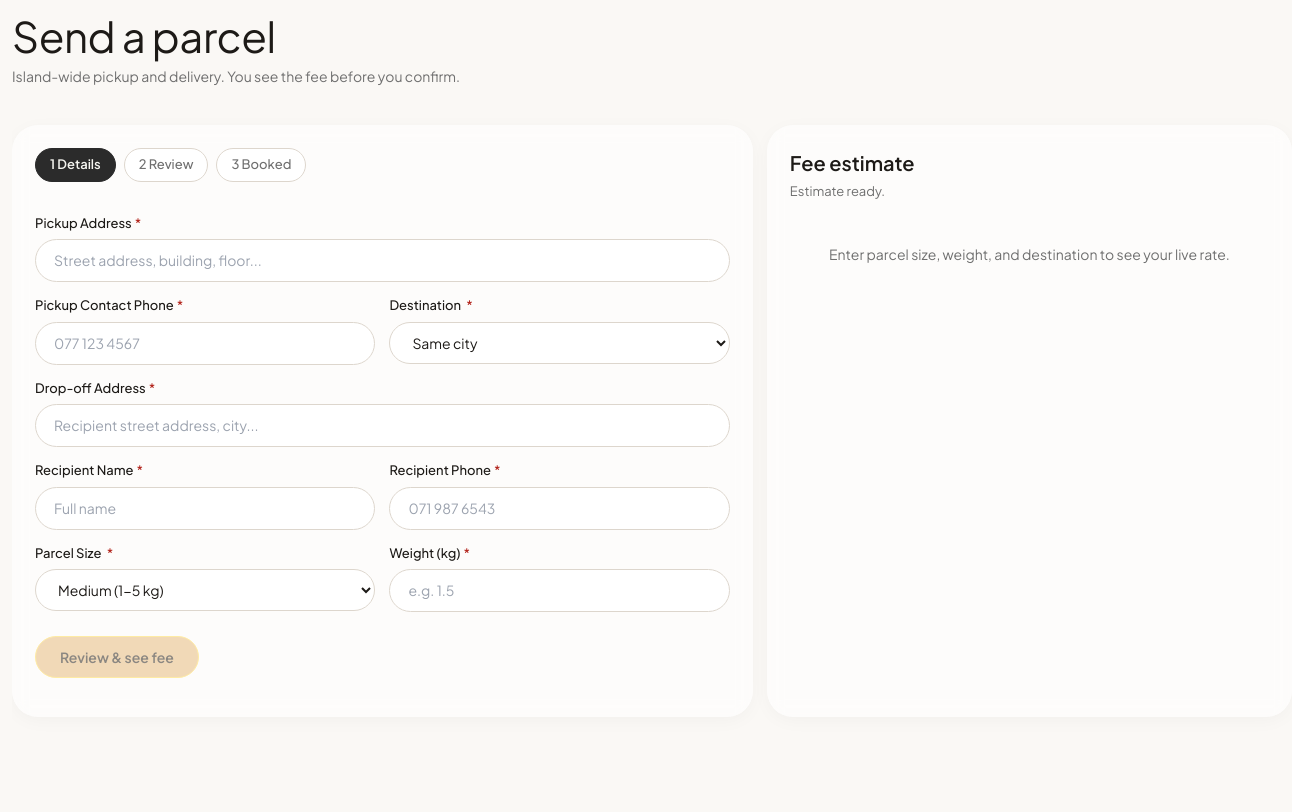
it: SendParcelPage Component › handles estimate failure and enables retry
Type "123 Galle Road, Colombo 03" into the field labelled "Pickup Address*" at (382, 261), box [35,239,730,282]
Type "0771234567" into the field labelled "Pickup Contact Phone*" at (205, 343), box [35,322,375,365]
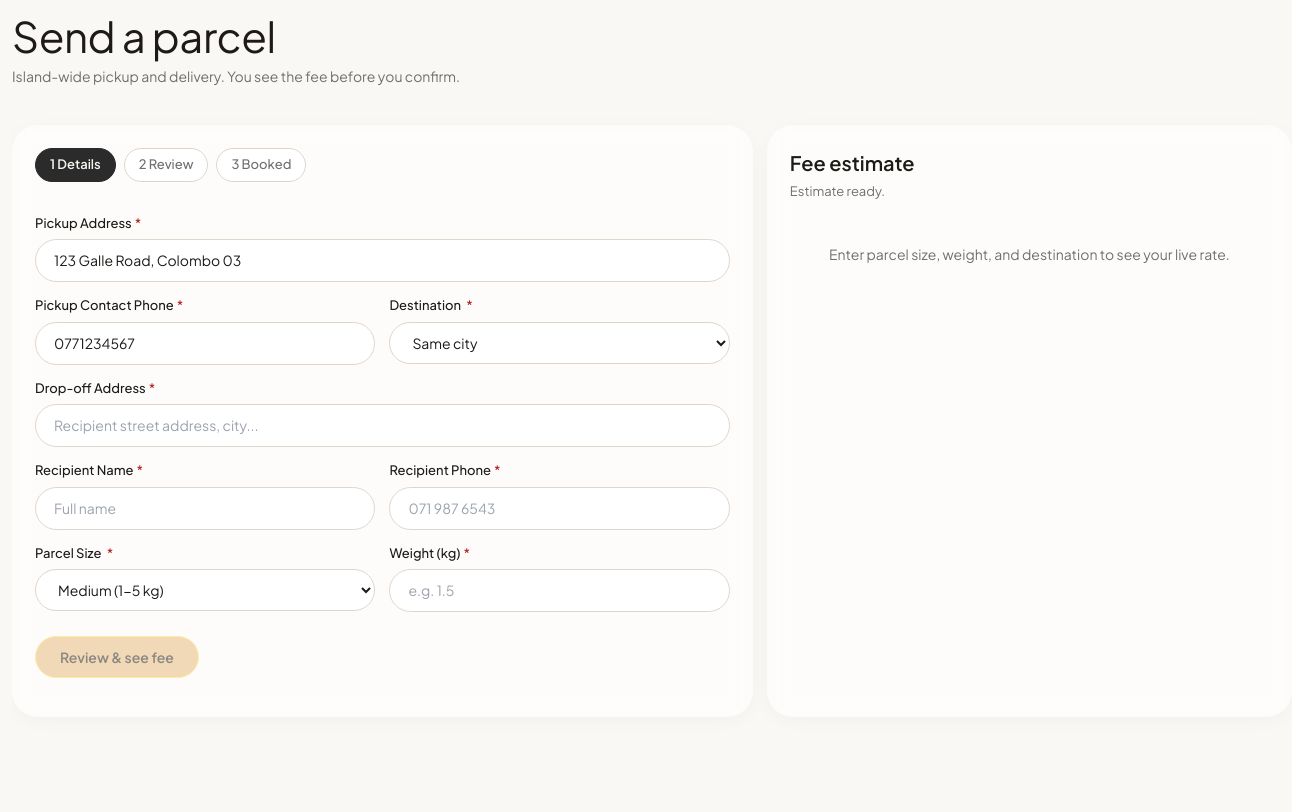
Type "45 Peradeniya Road, Kandy" into the field labelled "Drop-off Address*" at (382, 426), box [35,404,730,447]
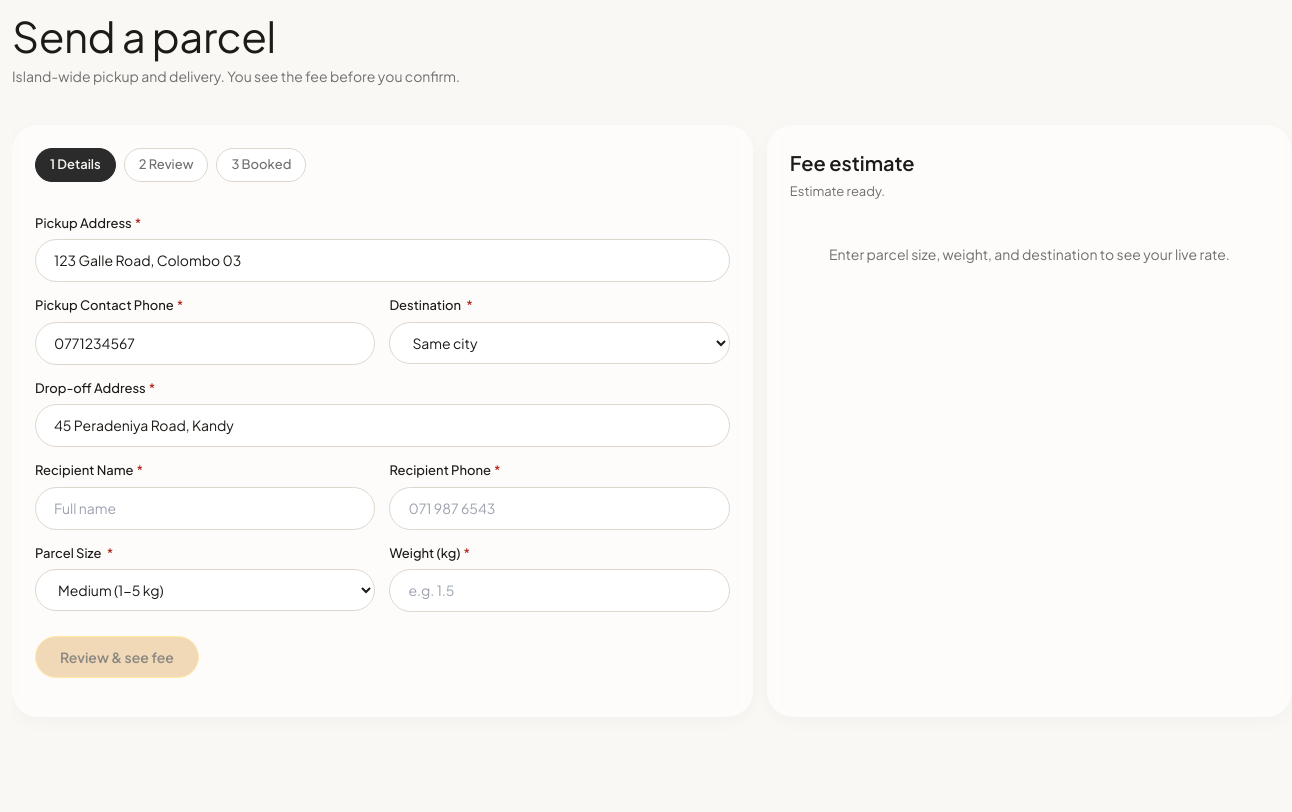
Type "Kasun Perera" into the field labelled "Recipient Name*" at (205, 508), box [35,487,375,530]
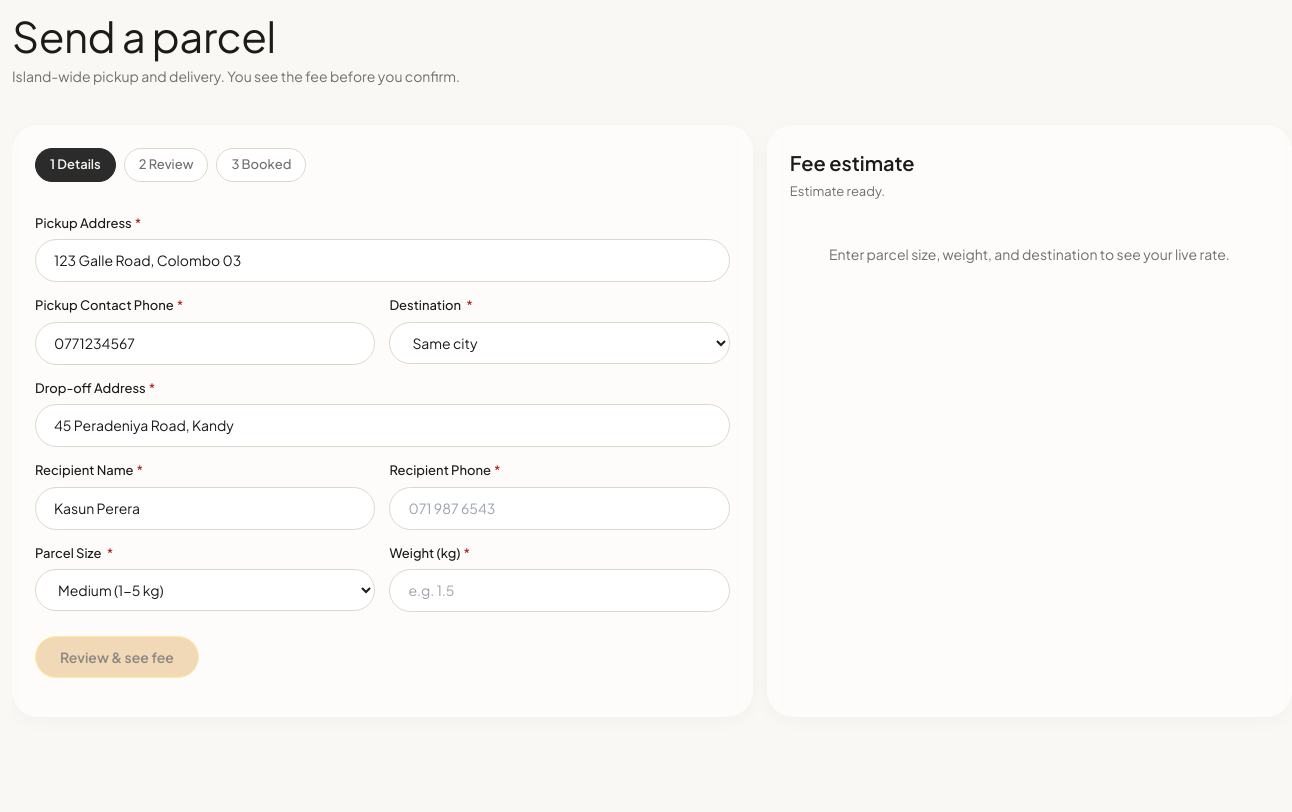
Type "0719876543" into the field labelled "Recipient Phone*" at (560, 508), box [389,487,730,530]
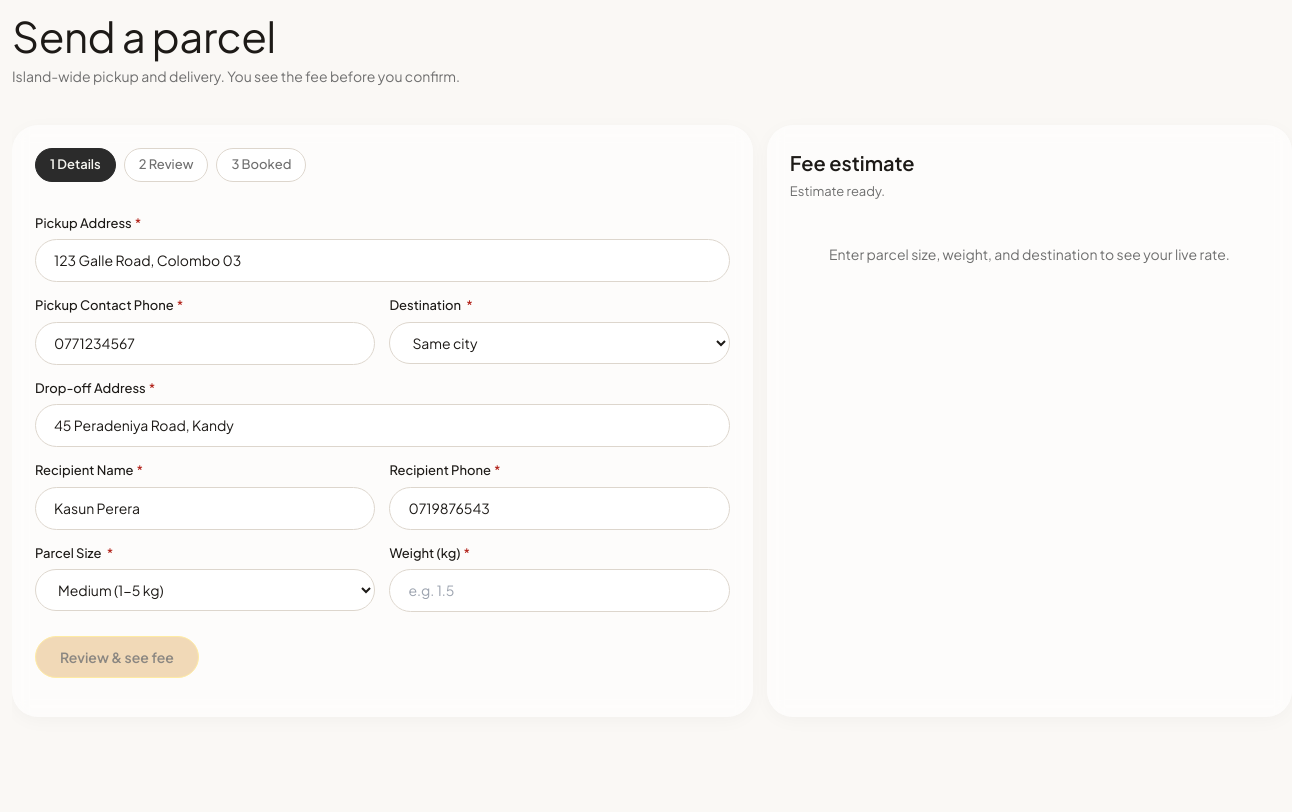
Type "2" into the number field labelled "Weight (kg)*" at (560, 591), box [389,569,730,612]
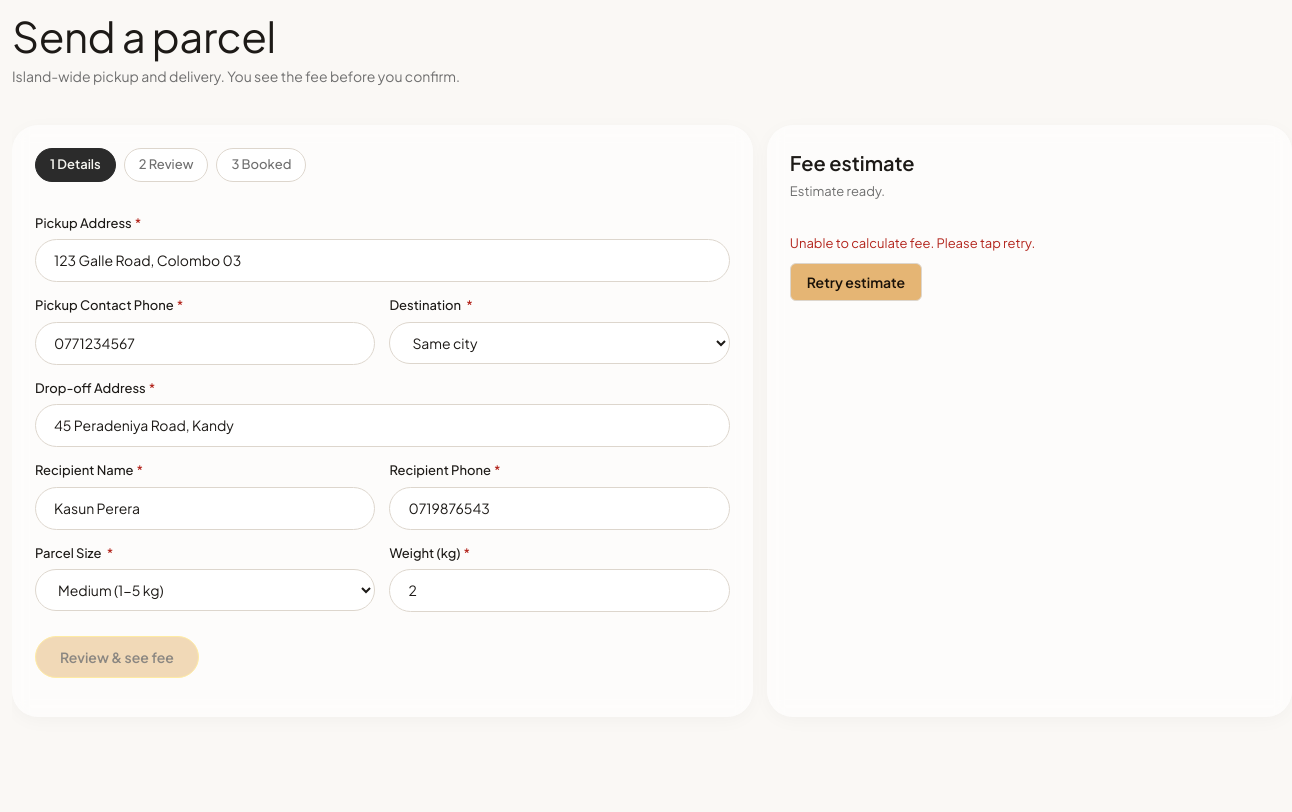
Check: the button "Review & see fee" is disabled, box [35,636,199,678]
Check: the text "Unable to calculate fee. Please tap retry." is shown, box [790,235,1035,251]
Click the button "Retry estimate" at (856, 282), box [790,263,922,301]
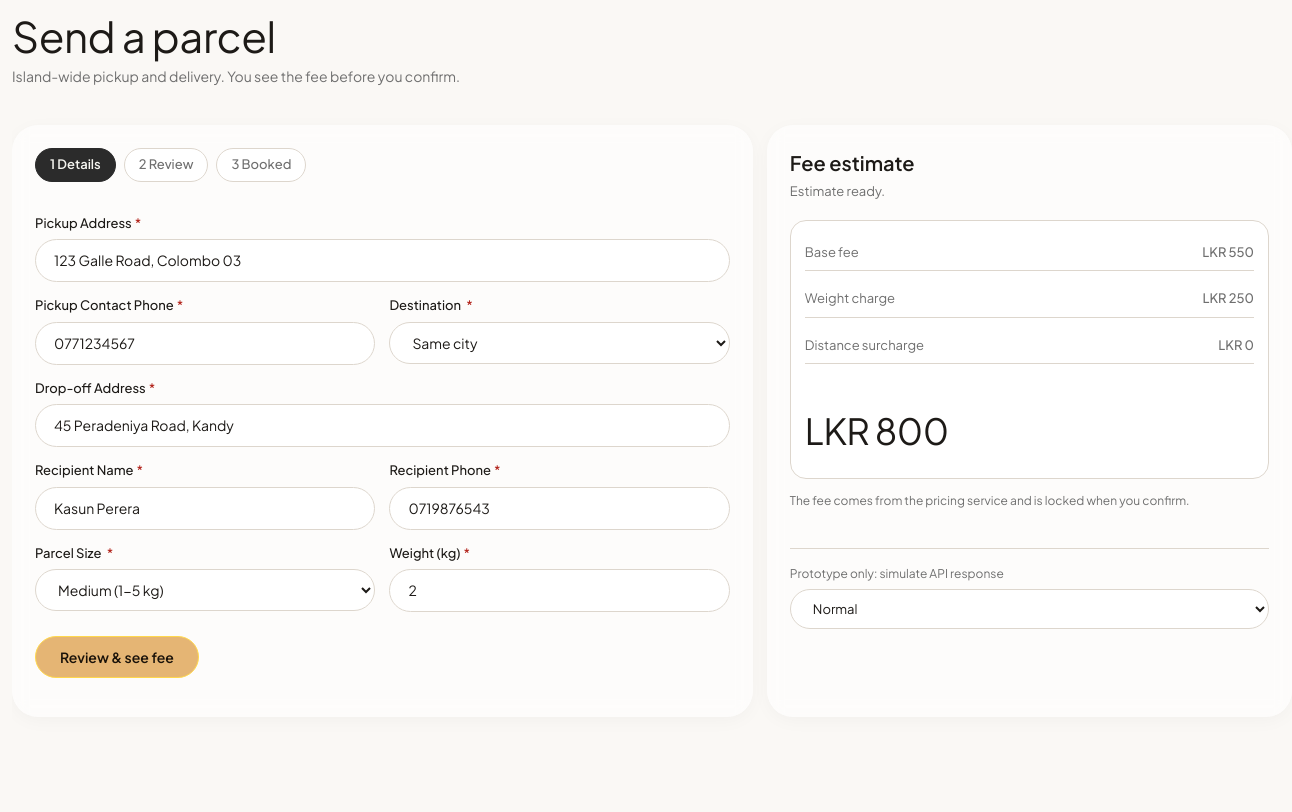
Check: the button "Review & see fee" is enabled, box [35,636,199,678]
